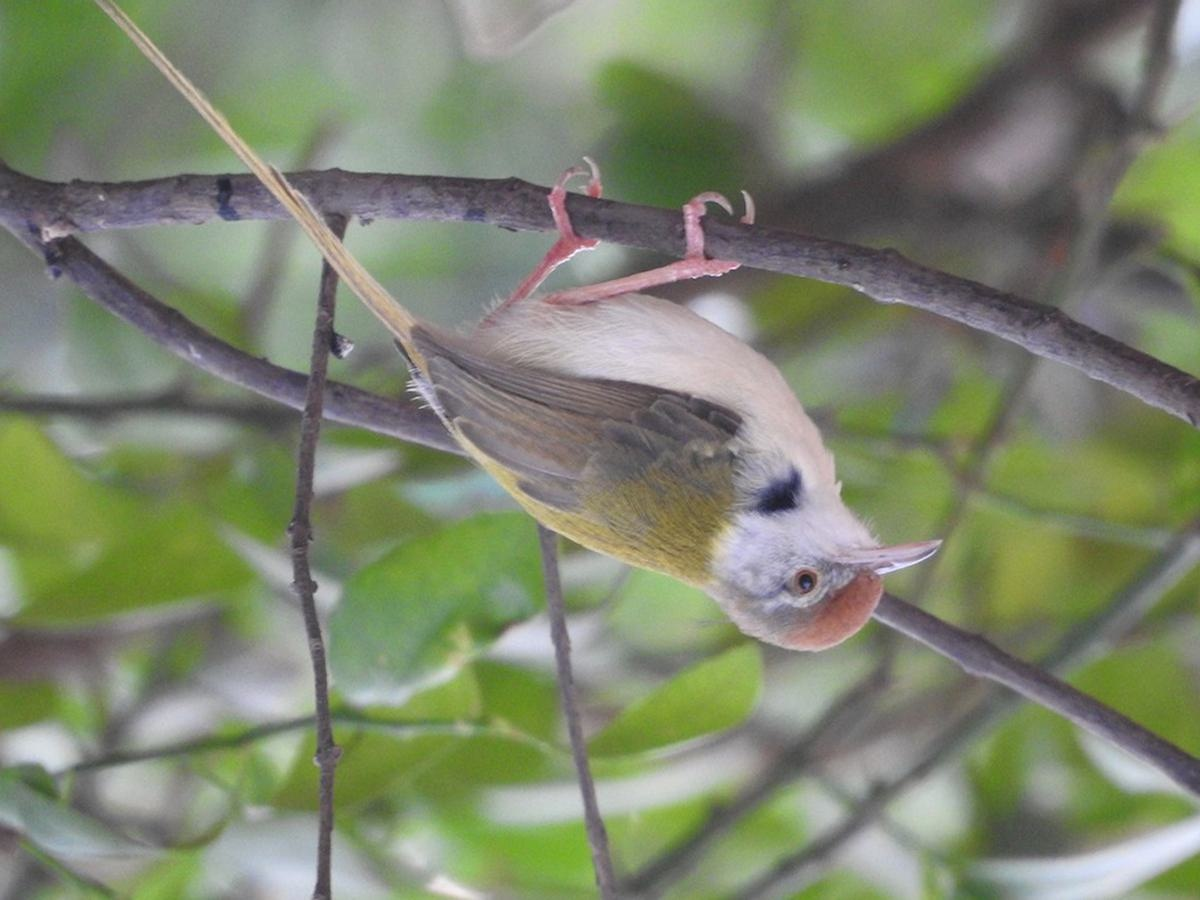tailorbird: (167, 48, 957, 686)
